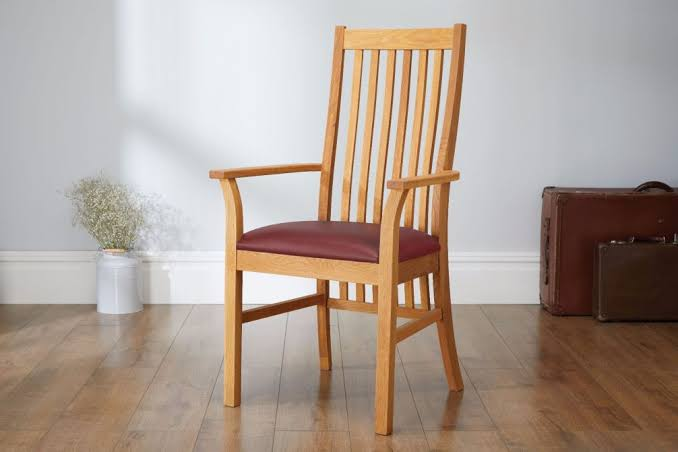chair: (205, 19, 479, 440)
